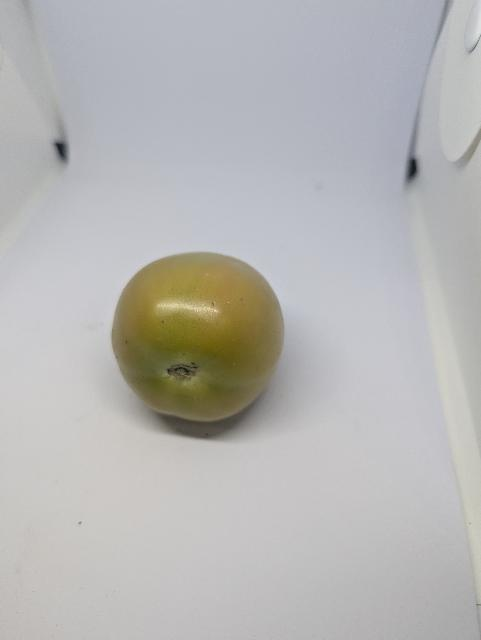breaker: (112, 252, 284, 422)
